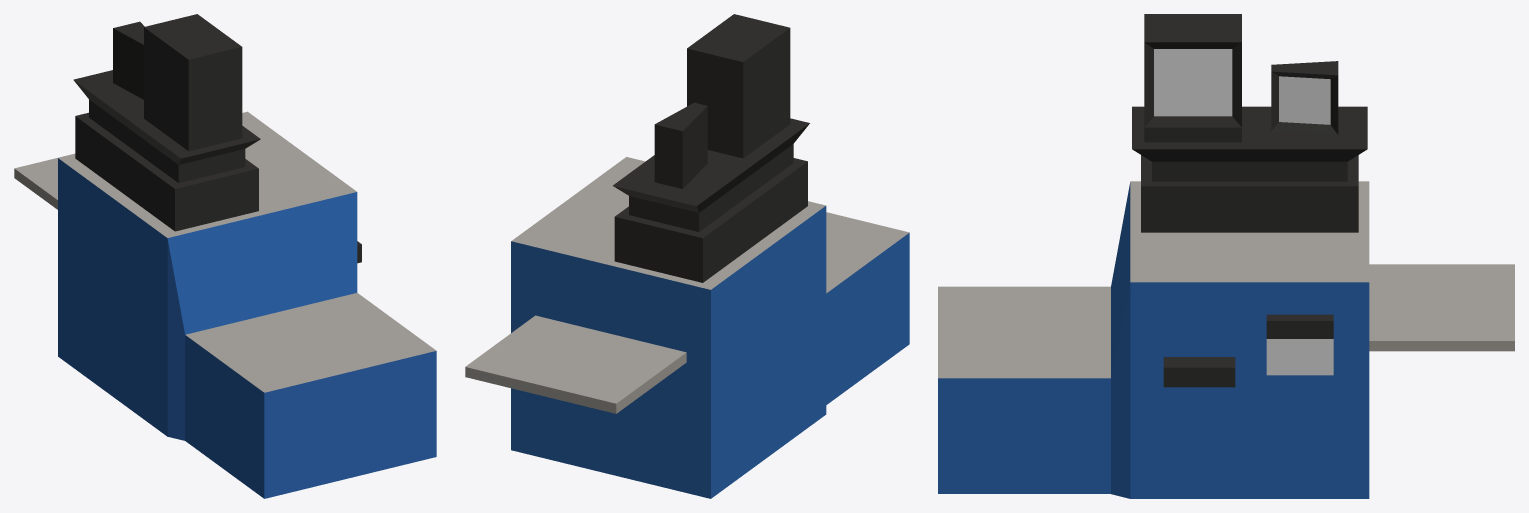
File: register.glb
3 renders of one model, left to right at view 1: azimuth 30°, elevation 25°; view 2: azimuth 150°, elevation 25°; view 3: azimuth 270°, elevation 25°, orthographic. The views are drawn at different scales.
Visible parts, largest first — view 1: Cube; view 2: Cube; view 3: Cube.
Part boxes in pixels (x1,y1,x2,y2): Cube: (14, 14, 436, 498); Cube: (465, 14, 909, 498); Cube: (938, 14, 1514, 498).
Size of the model in its own units: 2.21 by 3.68 by 4.83.
